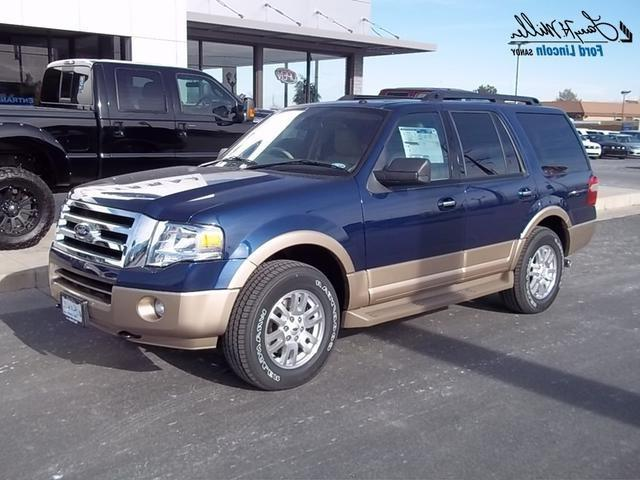Car: (45, 87, 607, 401)
